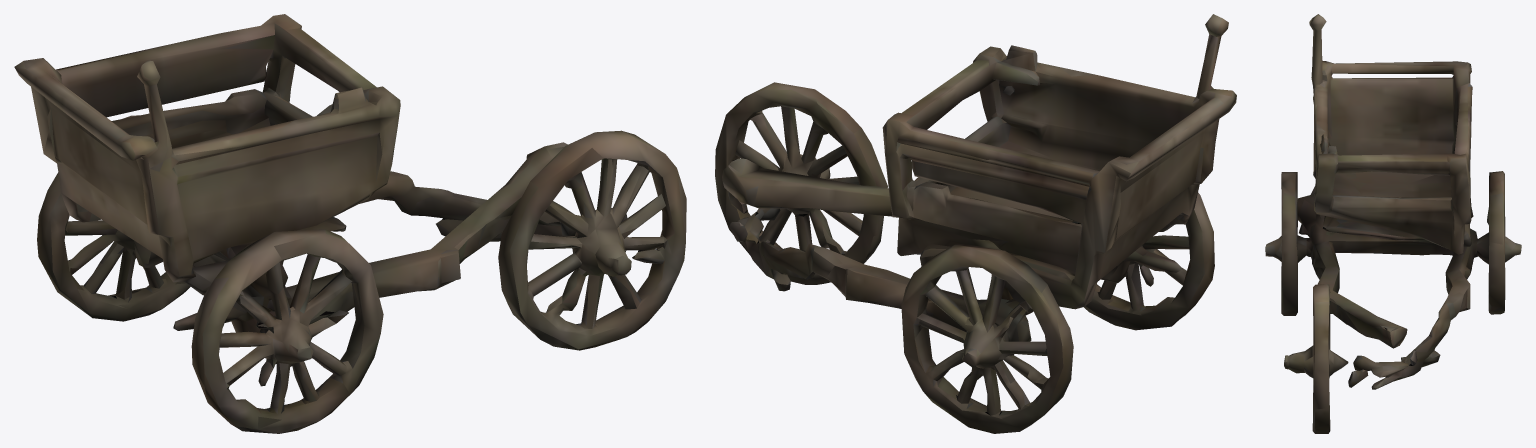
The model's file is weathered-wood-cart-v001.glb.
3 renders of one model, left to right at view 1: azimuth 30°, elevation 25°; view 2: azimuth 150°, elevation 25°; view 3: azimuth 270°, elevation 25°, orthographic. The views are drawn at different scales.
Visible parts, largest first — view 1: weathered-wood-cart; view 2: weathered-wood-cart; view 3: weathered-wood-cart.
Boxes of the visible parts, x1,y1,x2,y2 form: weathered-wood-cart: [14, 14, 686, 433]; weathered-wood-cart: [715, 14, 1236, 433]; weathered-wood-cart: [1265, 14, 1521, 433].
Bounding box in the file's own units: 1.86 × 1.26 × 1.1.
1 material, 1 textured.
